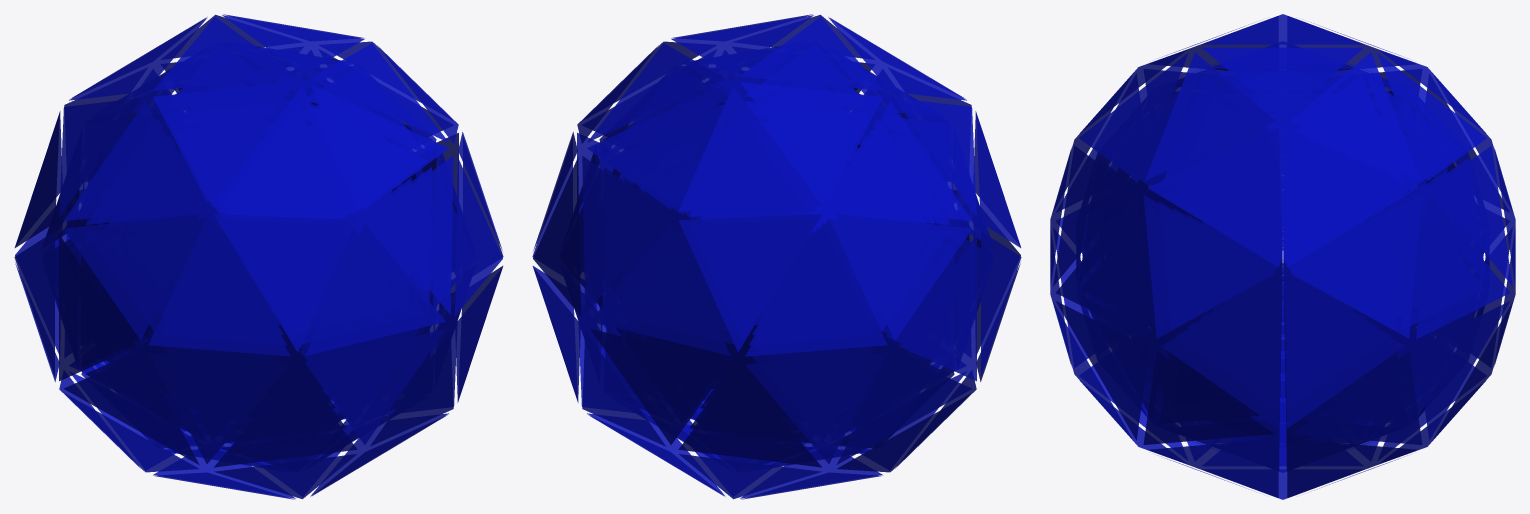
Rendered from masscrystal.fbx.
3 views of the same model, side by side, from view 1: azimuth 30°, elevation 25°; view 2: azimuth 150°, elevation 25°; view 3: azimuth 270°, elevation 25° (orthographic).
Parts seen in each view (by area): view 1: mass; view 2: mass; view 3: mass.
Boxes of the visible parts, x1,y1,x2,y2 form: mass: (14, 14, 503, 499); mass: (532, 14, 1021, 499); mass: (1050, 14, 1515, 499).
Bounding box in the file's own units: 13.48 × 13.48 × 13.48.
